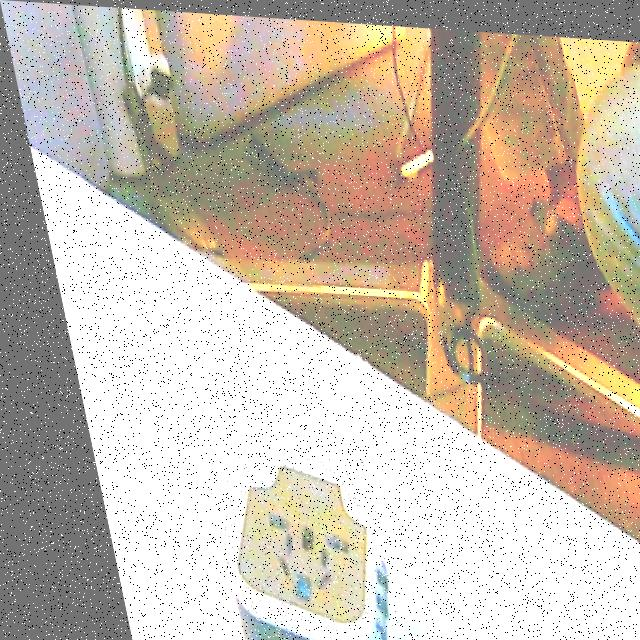adapter: (182, 447, 379, 640)
